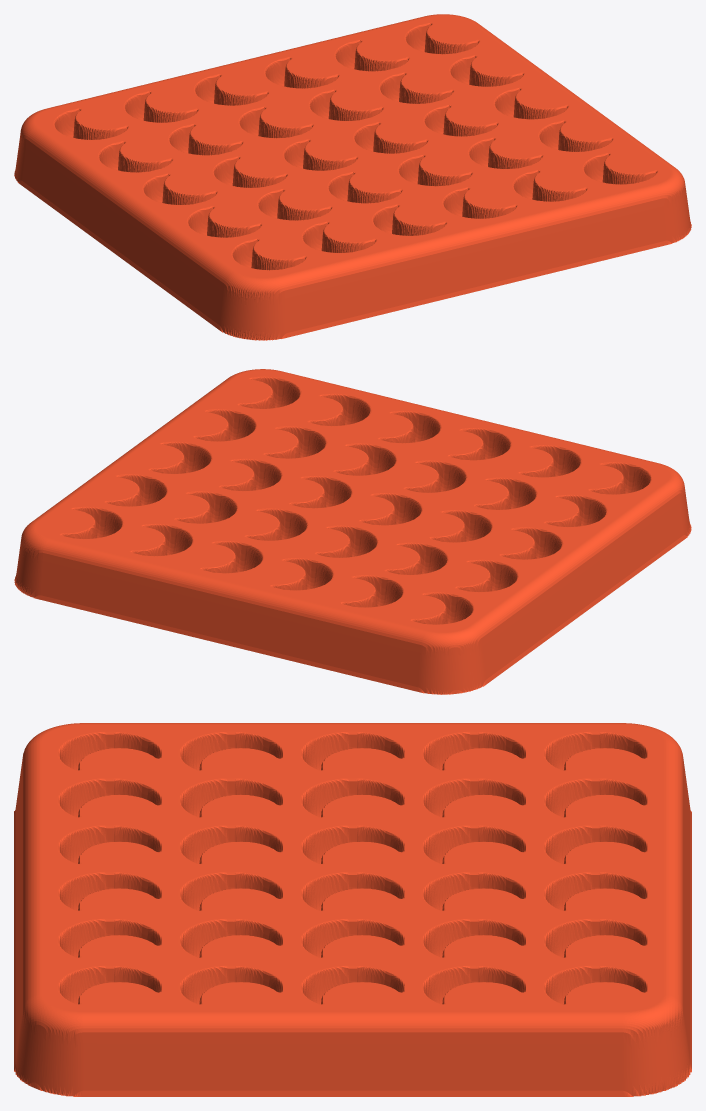
Rendered from mold.glb.
3 renders of one model, top to bottom at view 1: azimuth 30°, elevation 25°; view 2: azimuth 150°, elevation 25°; view 3: azimuth 270°, elevation 25°, orthographic. The views are drawn at different scales.
Parts seen in each view (by area): view 1: geometry_0; view 2: geometry_0; view 3: geometry_0.
Part boxes in pixels (x1=…): geometry_0: x1=14, y1=14, x2=691, y2=340; geometry_0: x1=14, y1=369, x2=691, y2=694; geometry_0: x1=14, y1=723, x2=691, y2=1096.
Size of the model in its own units: 0.0956 by 0.0105 by 0.0882.
